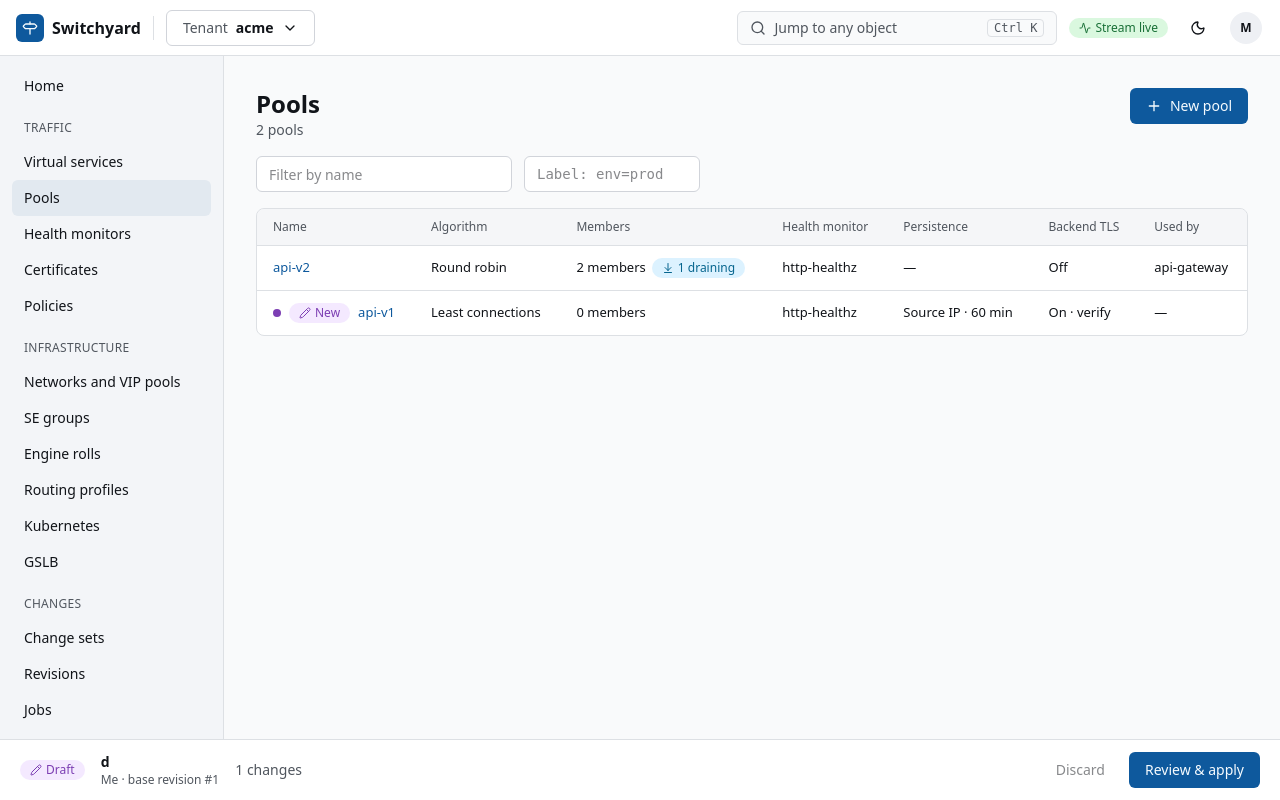
Test case: pools › lists pools with monitor, persistence, backend TLS, draining and used by
Expected: the text "2 members" is shown, [576,258,646,278]
Expected: the text "1 draining" is shown, [652,258,745,278]
Type "v2" into the field labelled "Filter by name" at (384, 174), box [256,156,512,192]
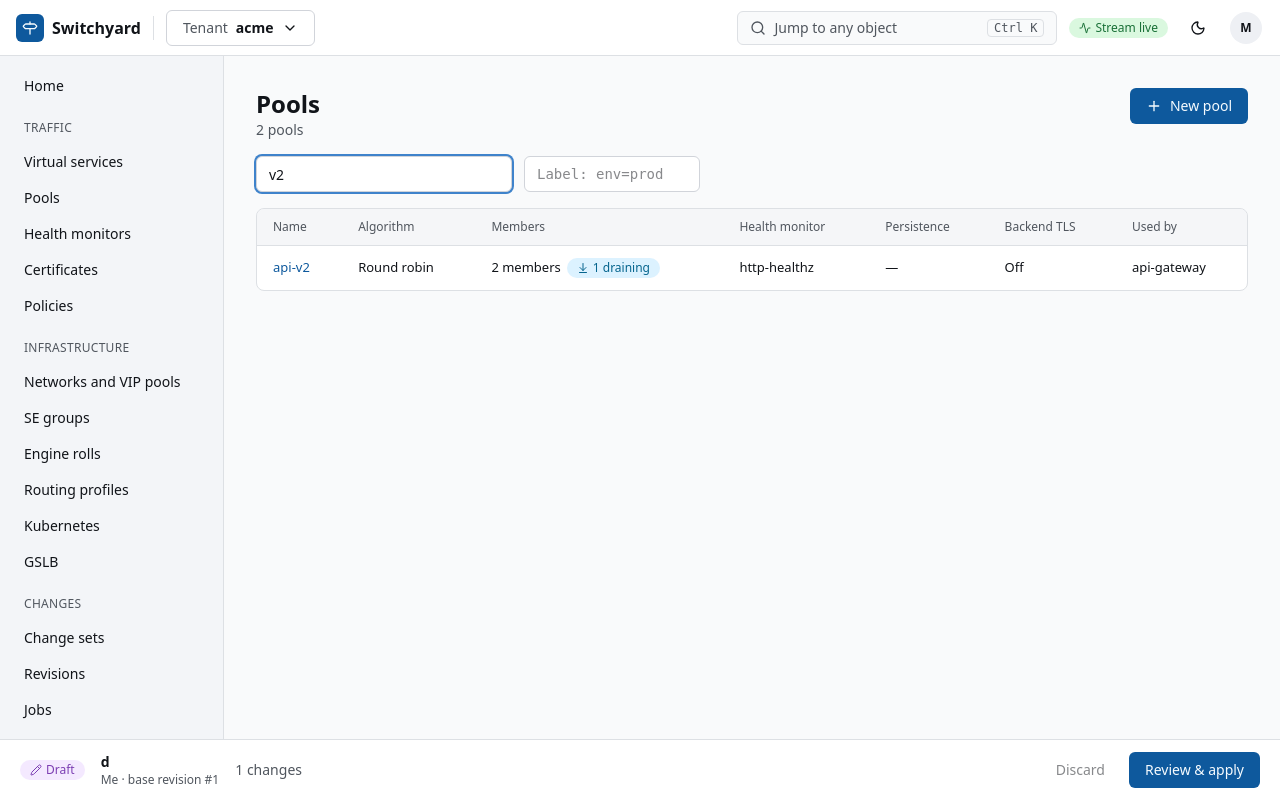
Result: the button "api-v1" is gone
